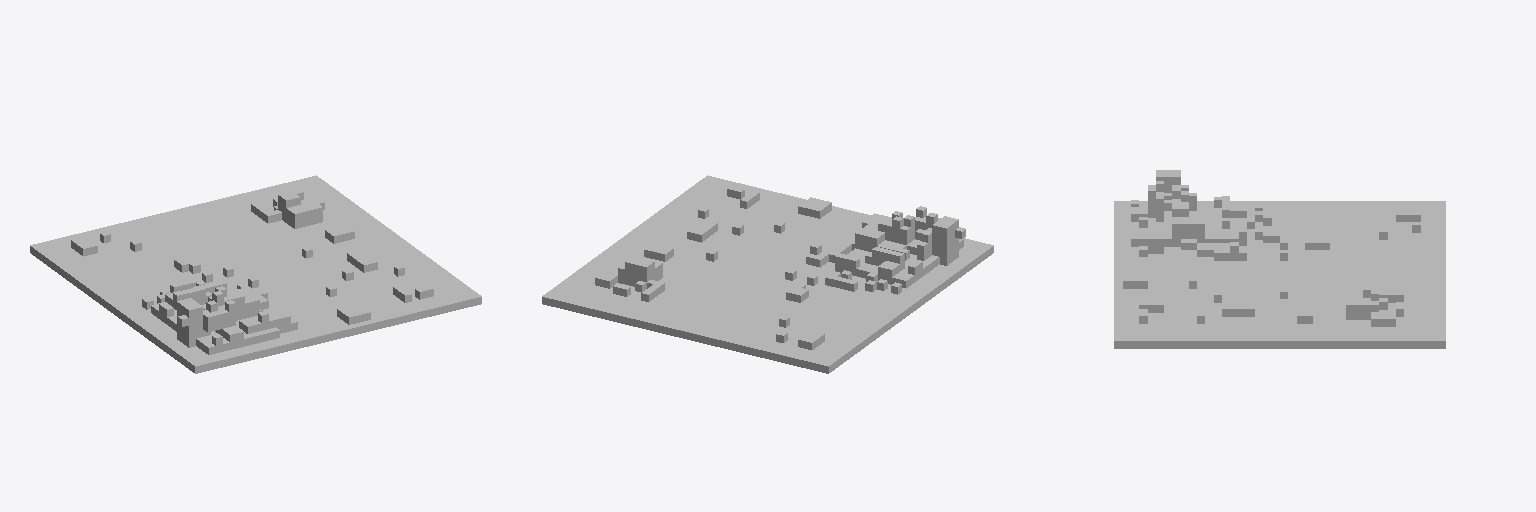
Rendered from floor3.obj.
3 renders of one model, left to right at view 1: azimuth 30°, elevation 25°; view 2: azimuth 150°, elevation 25°; view 3: azimuth 270°, elevation 25°, orthographic.
Visible parts, largest first — view 1: floor3; view 2: floor3; view 3: floor3.
Part boxes in pixels (x1,y1,x2,y2): floor3: (30, 175, 481, 373); floor3: (542, 175, 993, 373); floor3: (1114, 170, 1445, 348).
Size of the model in its own units: 40 by 6 by 40.